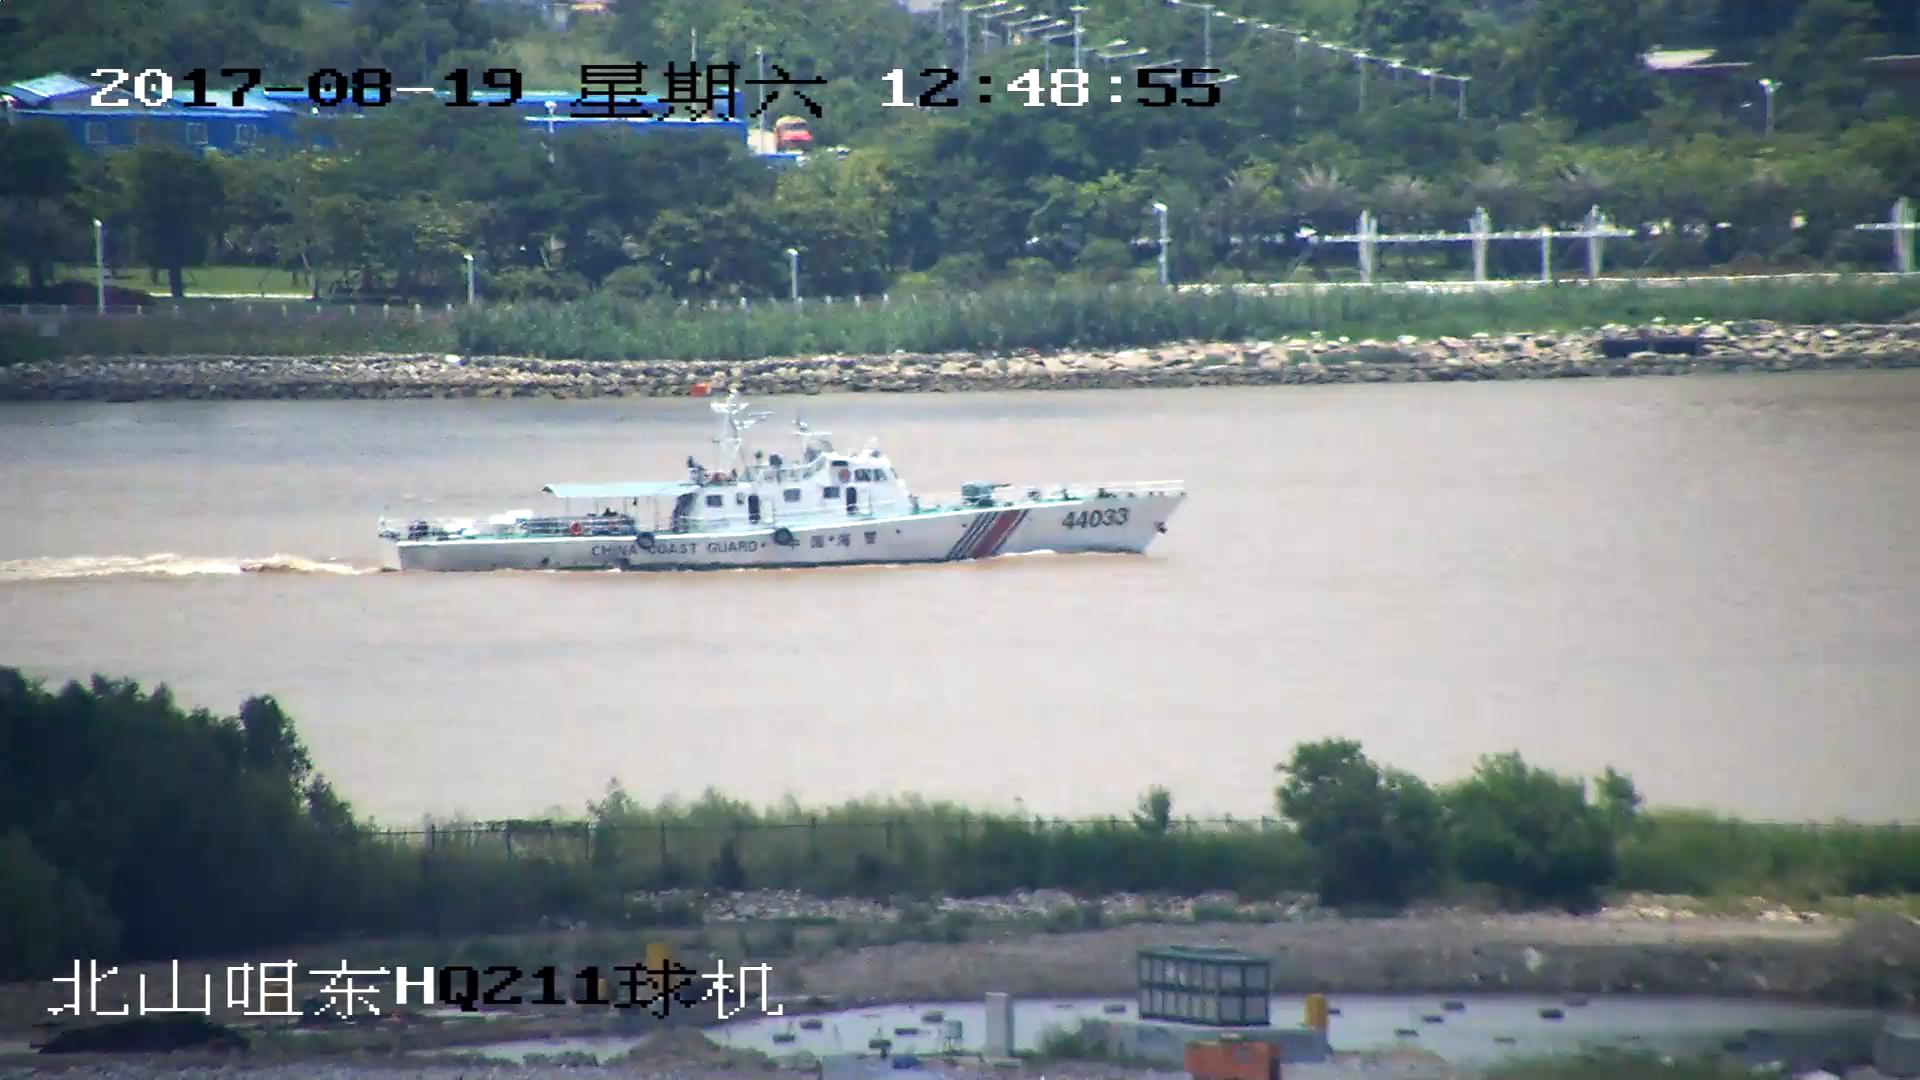passenger ship: (384, 384, 1186, 576)
